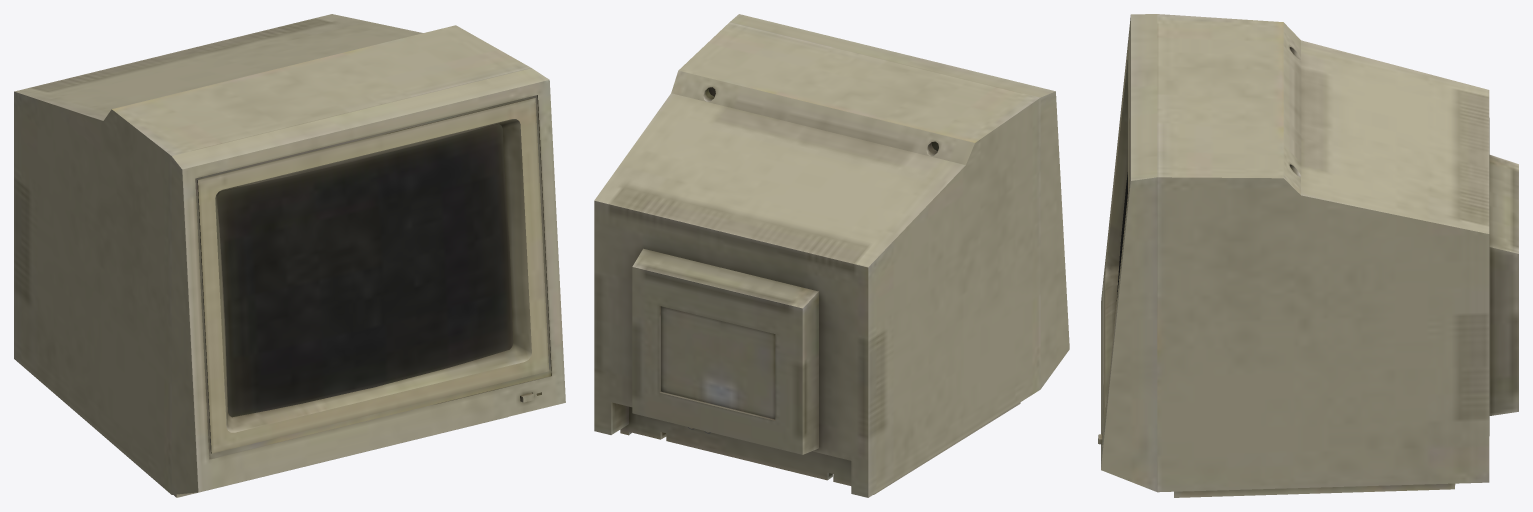
Rendered from c64monitor-compressed.glb.
The picture shows the model from 3 angles, left to right: view 1: azimuth 30°, elevation 25°; view 2: azimuth 150°, elevation 25°; view 3: azimuth 270°, elevation 25°; orthographic projection. The views are drawn at different scales.
Parts seen in each view (by area): view 1: Cube_low_Material_0; view 2: Cube_low_Material_0; view 3: Cube_low_Material_0.
Boxes of the visible parts, x1=… form: Cube_low_Material_0: x1=14, y1=14, x2=565, y2=497; Cube_low_Material_0: x1=594, y1=14, x2=1069, y2=497; Cube_low_Material_0: x1=1098, y1=14, x2=1518, y2=497.
Bounding box in the file's own units: 0.3109 × 0.2845 × 0.3318.
1 material, 1 textured.
